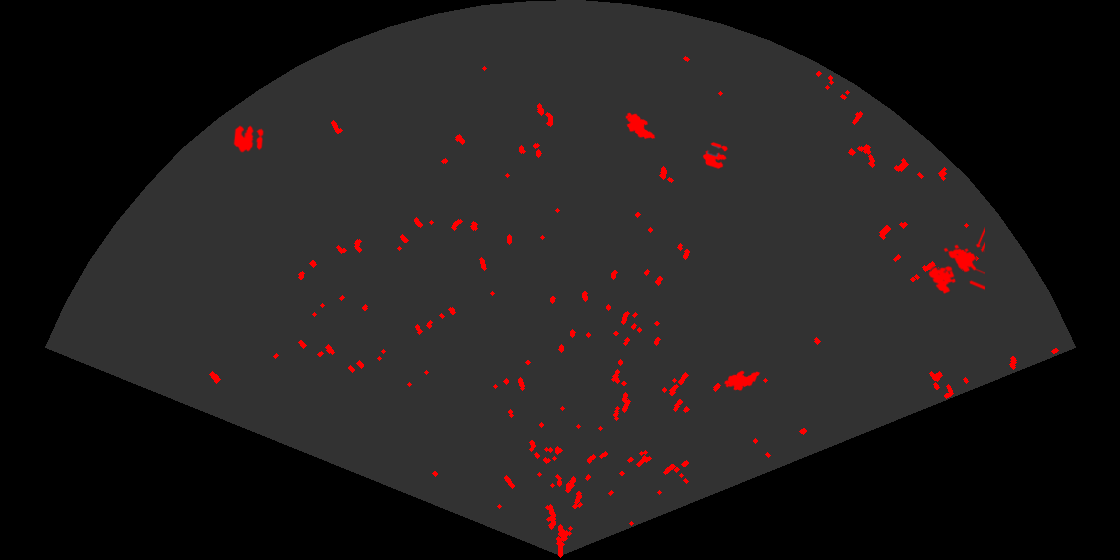AUV: (624, 111, 657, 141), (722, 369, 762, 393)
ball: (232, 124, 265, 154), (701, 141, 729, 170)
cage: (927, 227, 985, 296)
